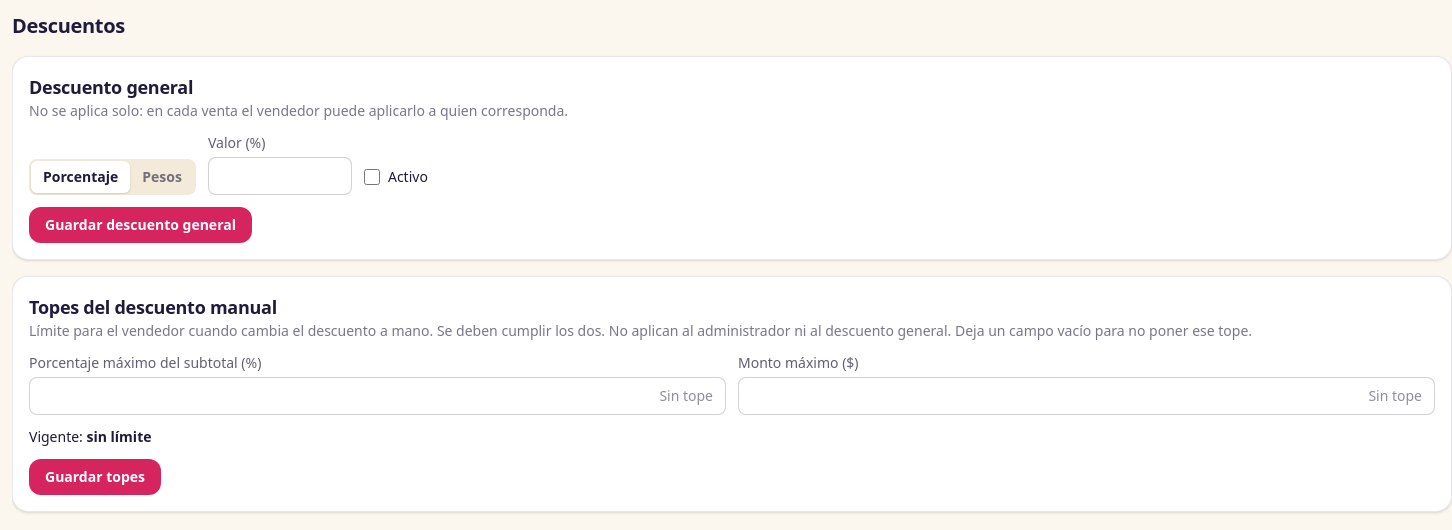
Test case: Descuentos (administrador) › guarda el descuento general en porcentaje y activo
Type "5" into the field labelled "Valor (%)". click: (280, 176)
box: [208,157,352,195]
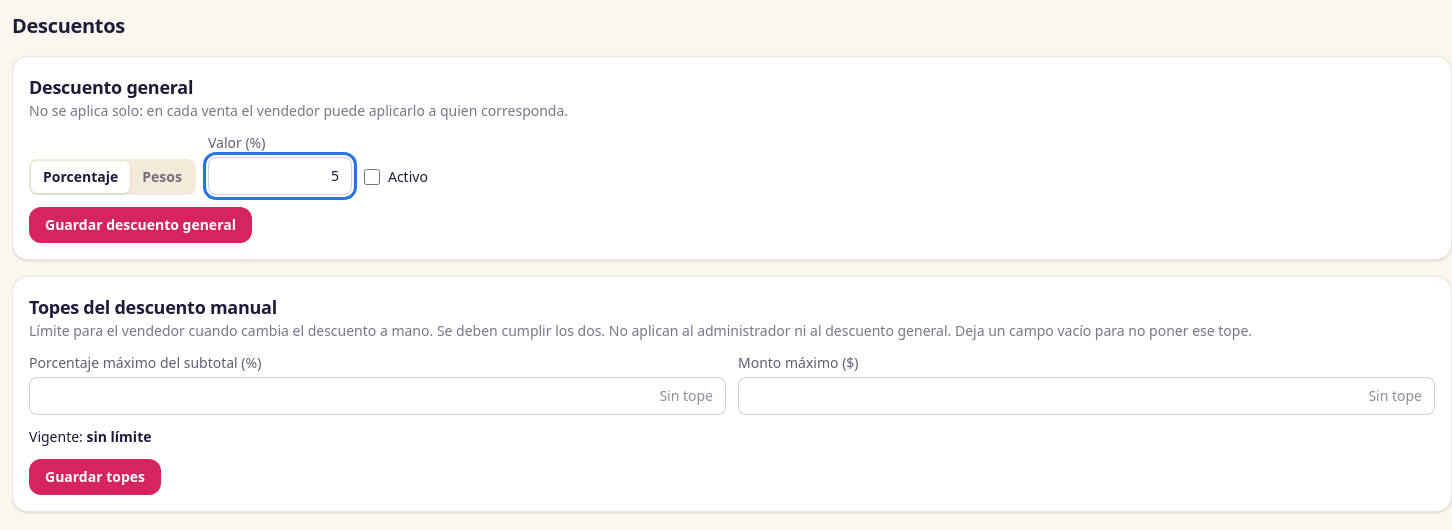
Click the checkbox labelled "Activo". click: click(372, 177)
box: [364,169,380,185]
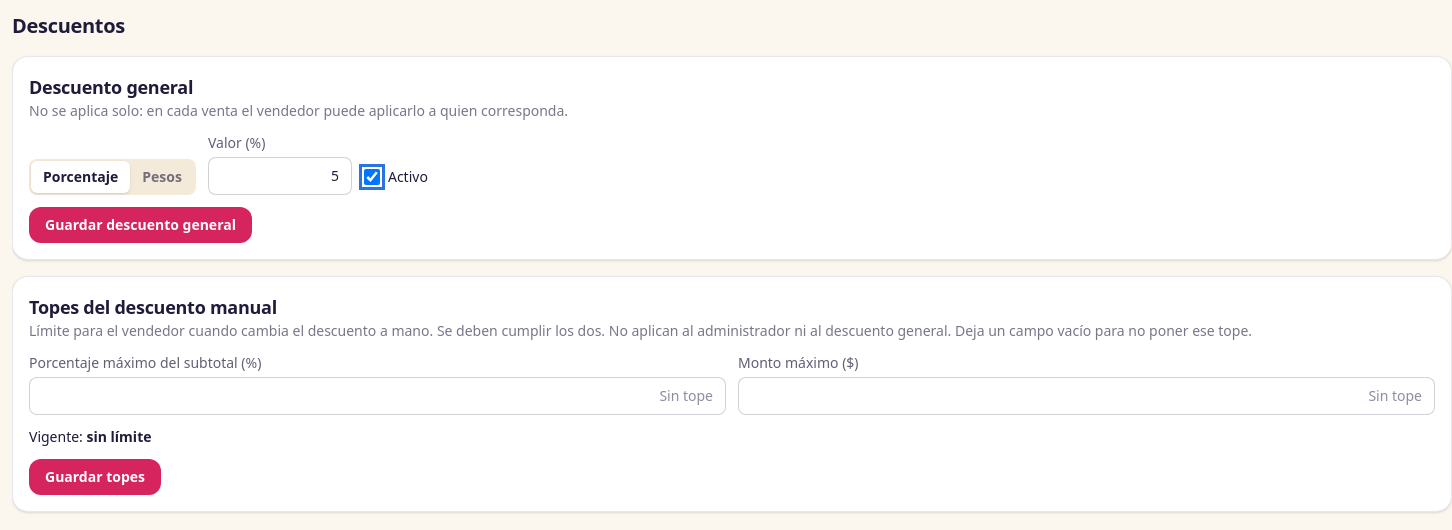
Click the button "Guardar descuento general". click: click(140, 225)
box: [29,207,252,243]
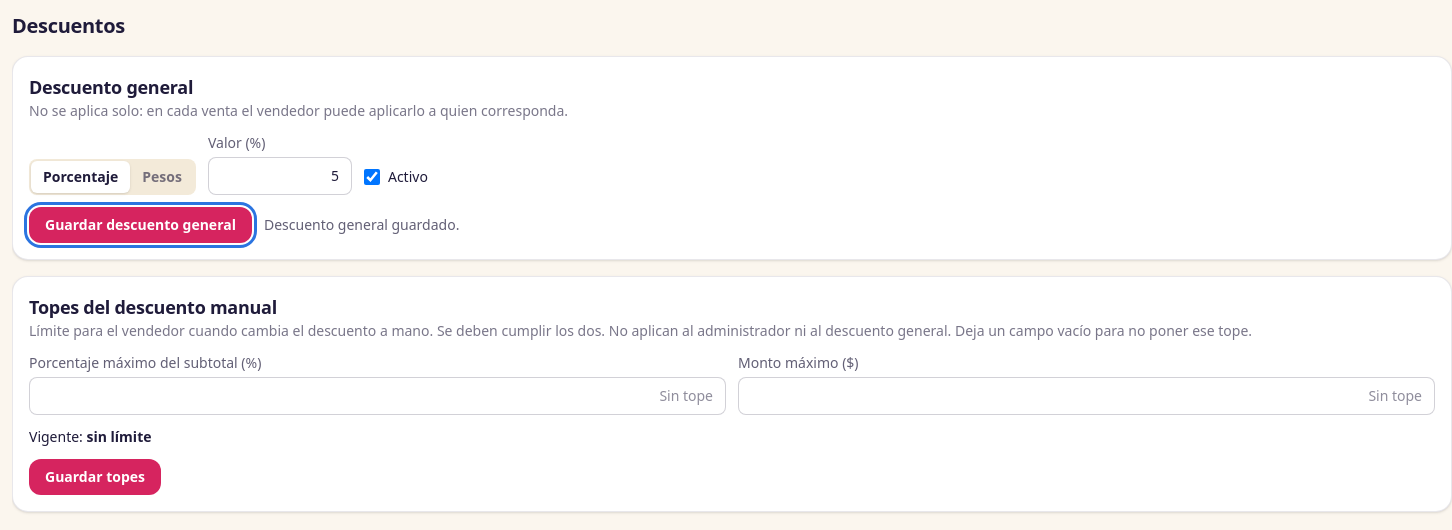
Expected: the text "Descuento general guardado." is shown, [264,215,459,235]
